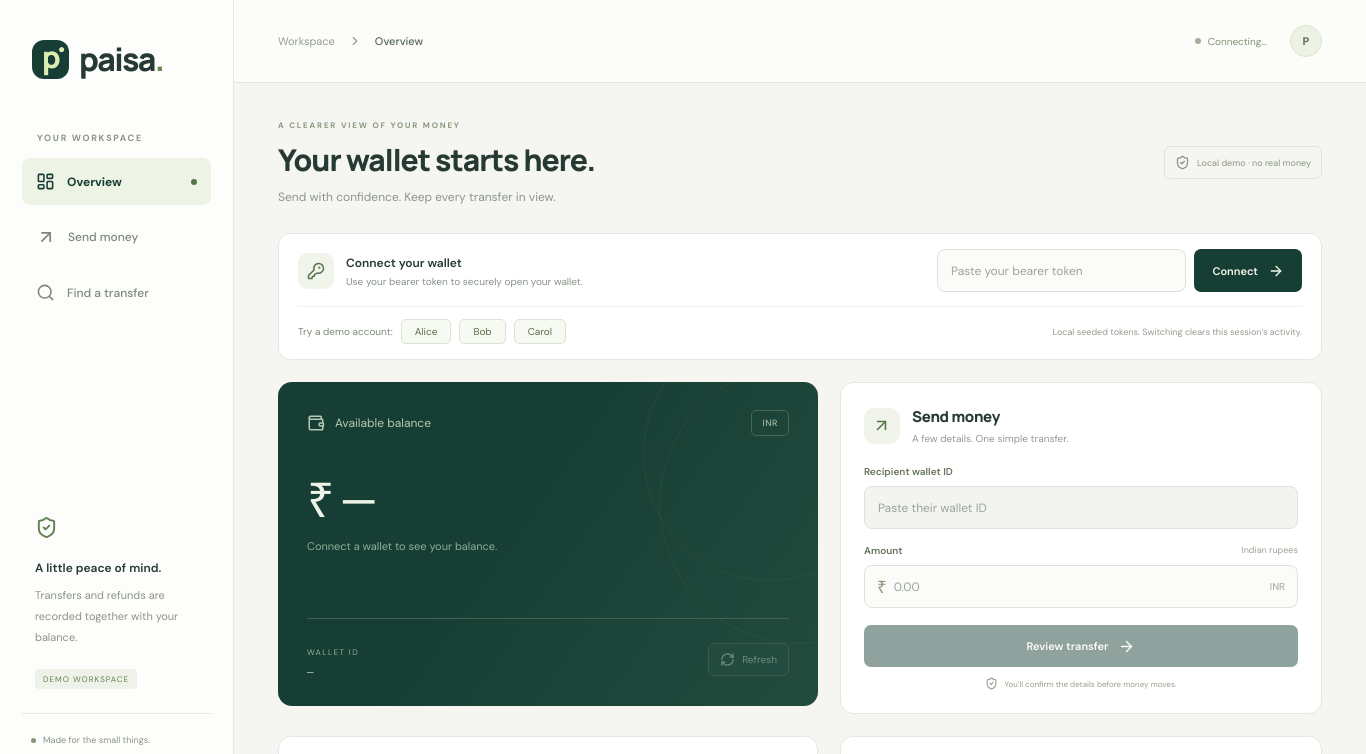
Test: reviews before sending and converts rupees to paise
Type "test-token" into the password field labelled "bearer token".
click(1062, 270); type("test-token")  # box [937,249,1186,292]
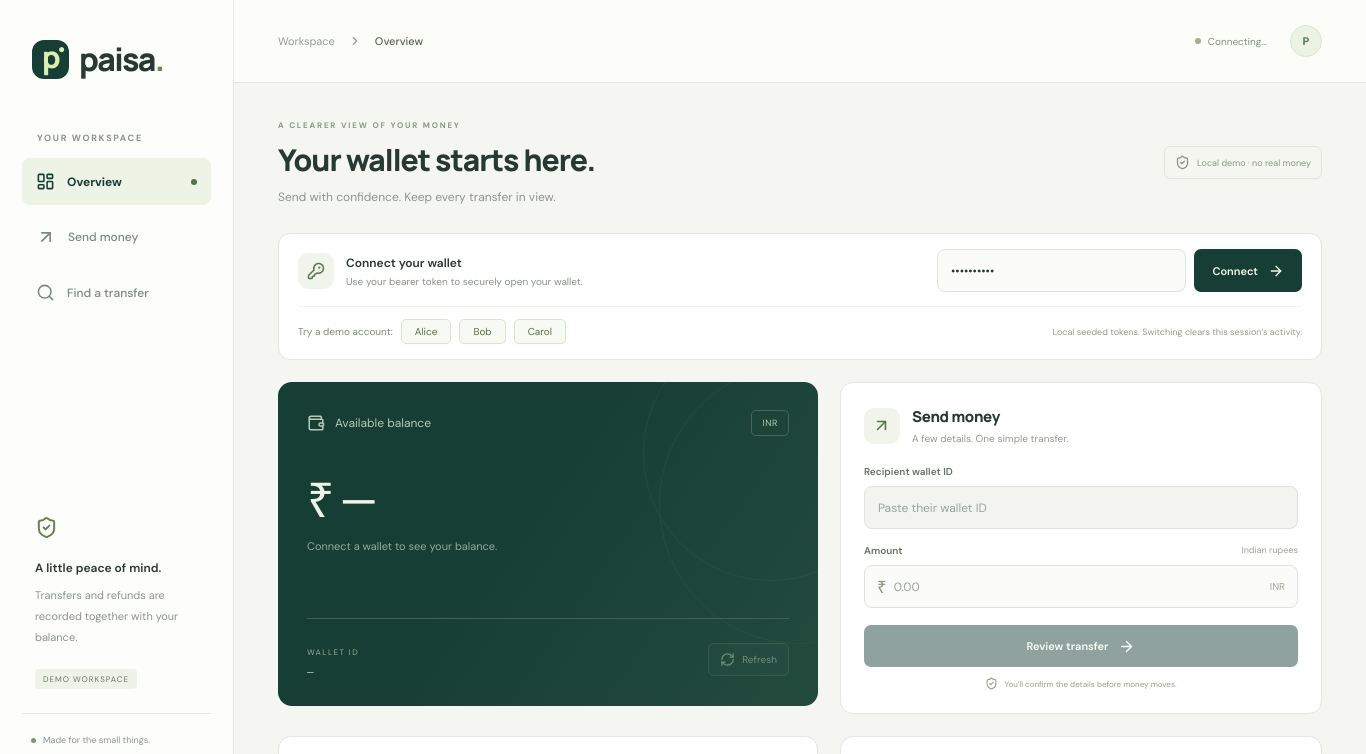
Click the button "Connect".
click(1248, 270)  # box [1194,249,1302,292]
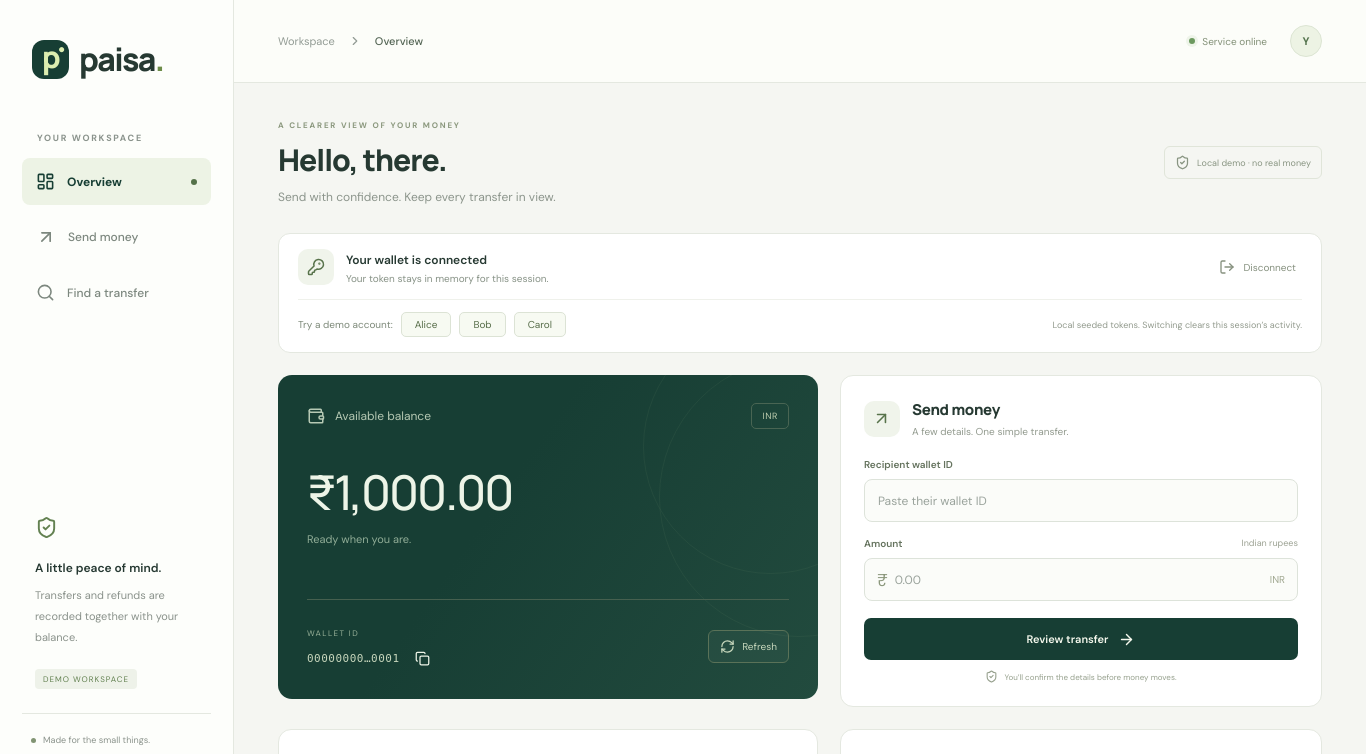
Now the text "Your wallet is connected" is shown, box [346,252,487,268]
Type "00000000-0000-4000-8000-000000000002" into the field labelled "Recipient wallet ID".
click(1081, 500); type("00000000-0000-4000-8000-000000000002")  # box [864,479,1298,522]
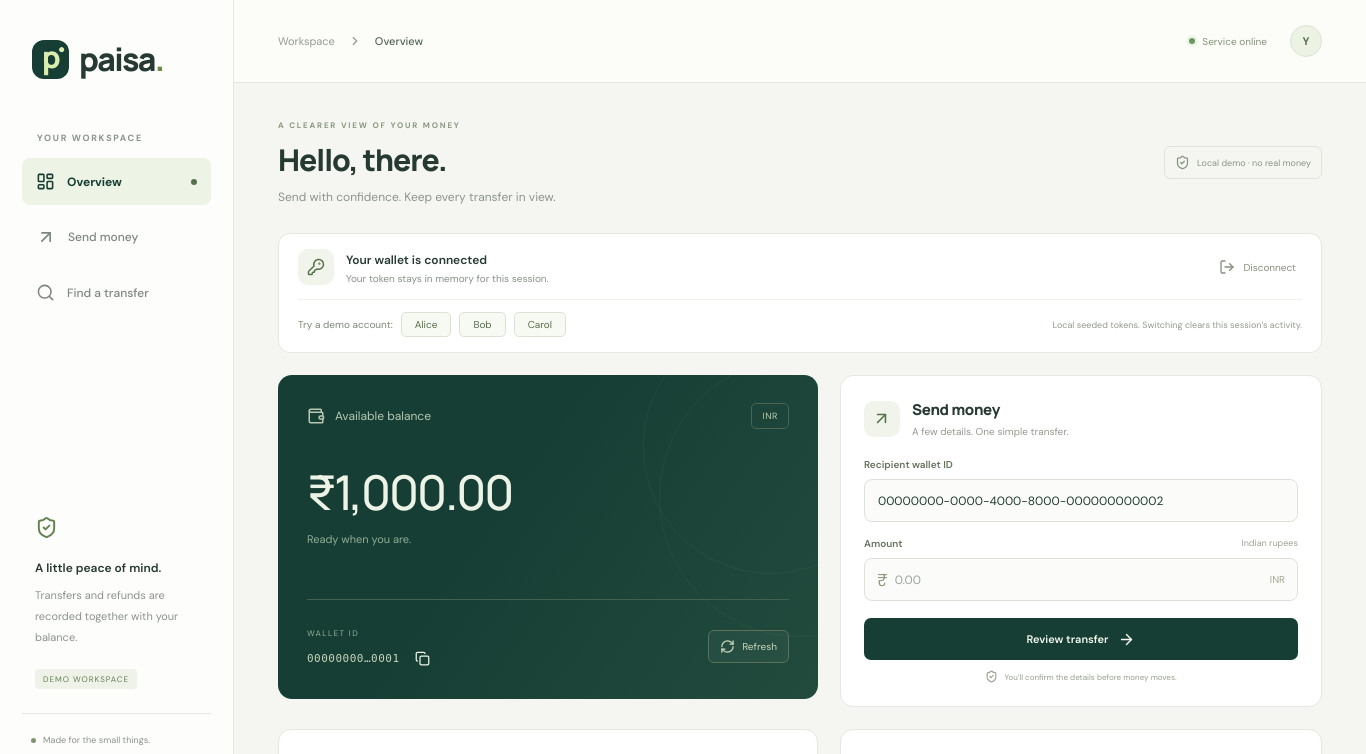
Type "12.34" into the field labelled "Amount".
click(1079, 580); type("12.34")  # box [895,560,1263,598]
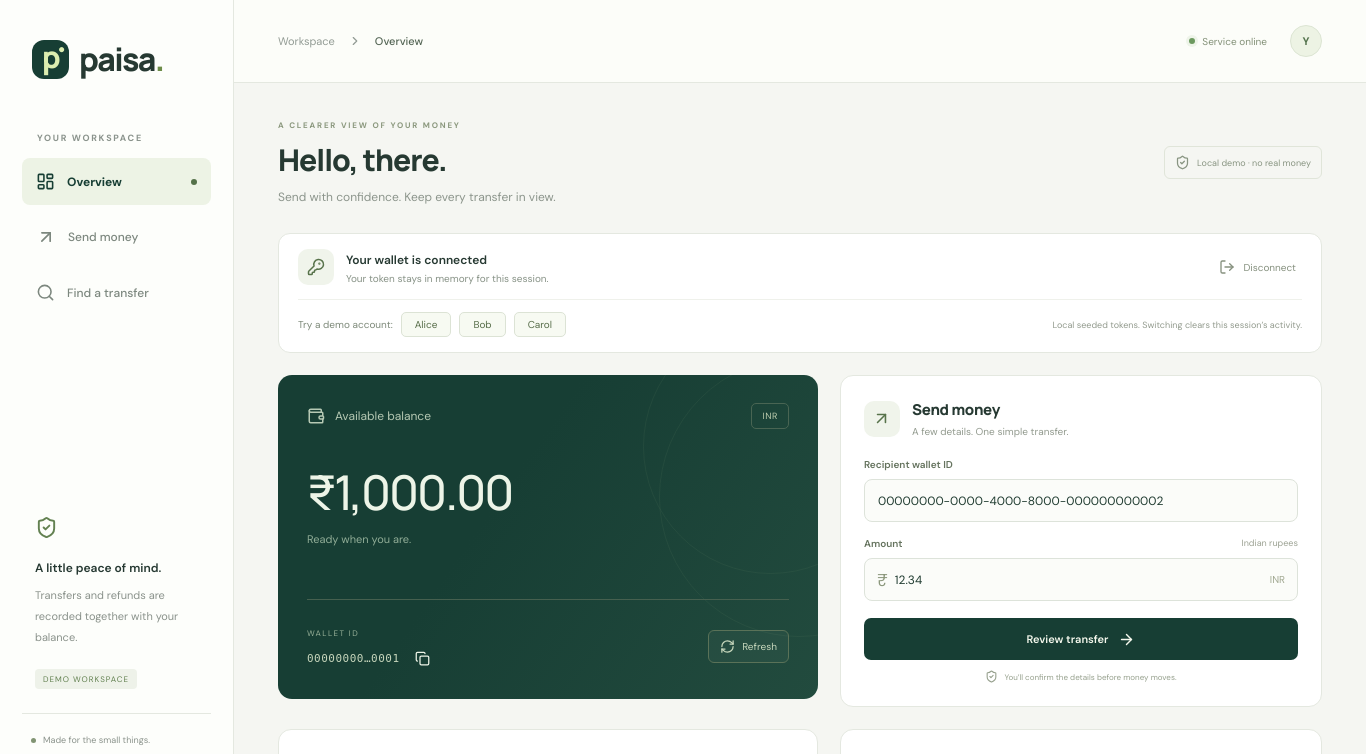
Click the button "Review transfer".
click(1081, 639)  # box [864,618,1298,660]
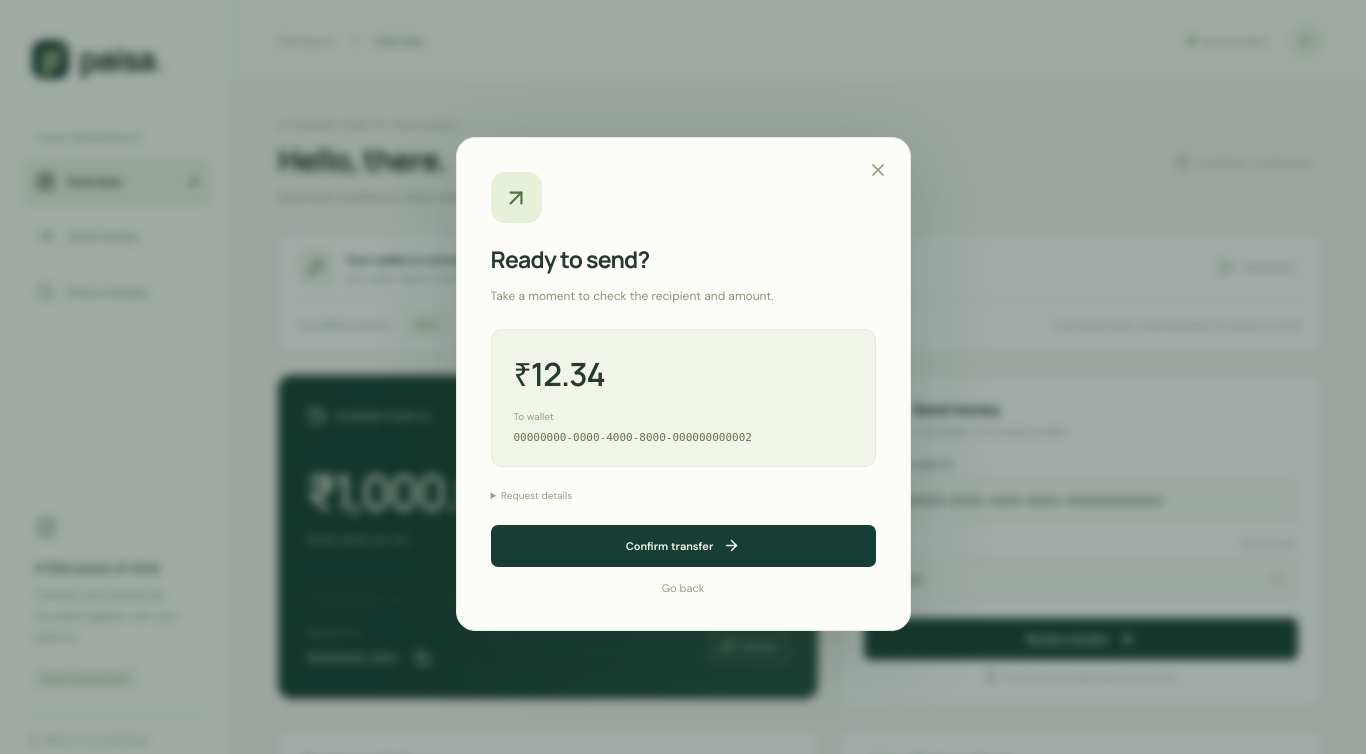
Click the button "Confirm transfer".
click(683, 546)  # box [490,525,876,567]
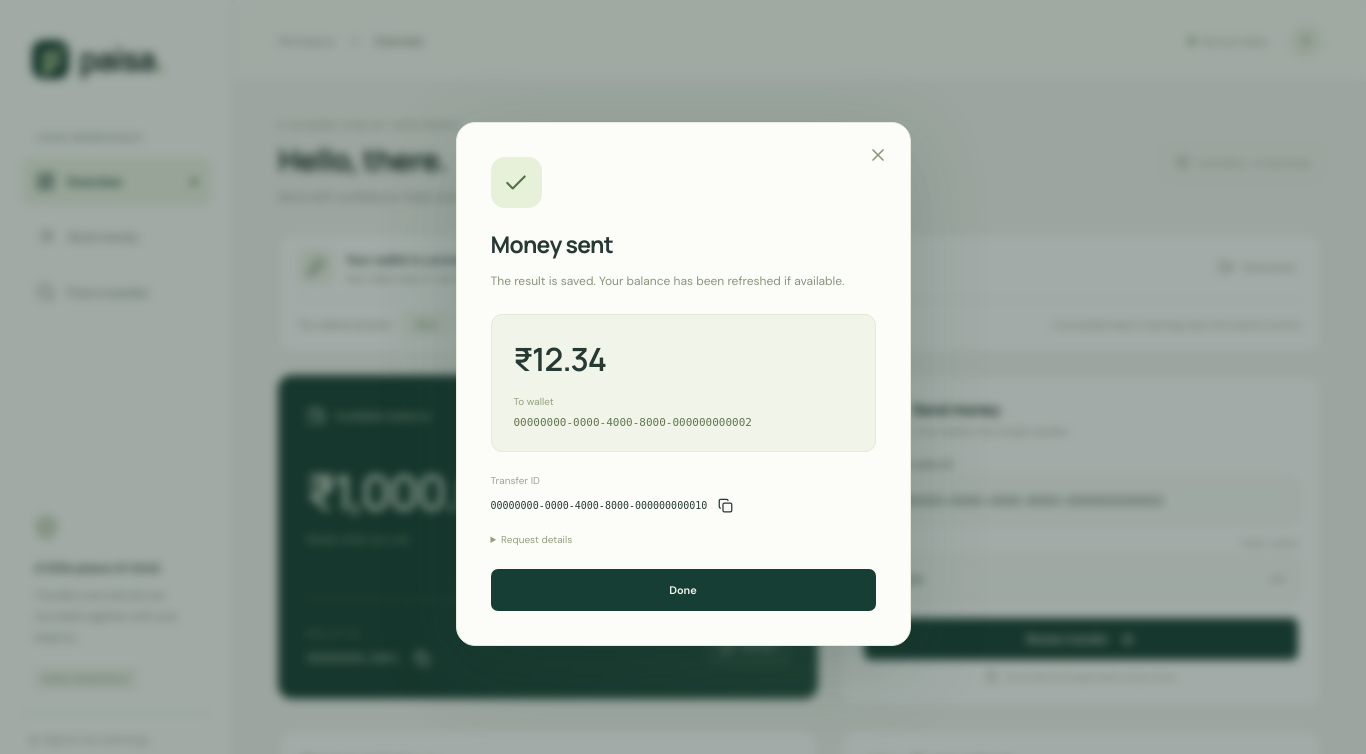
Now the heading "Money sent" is shown, box [490,228,613,260]
